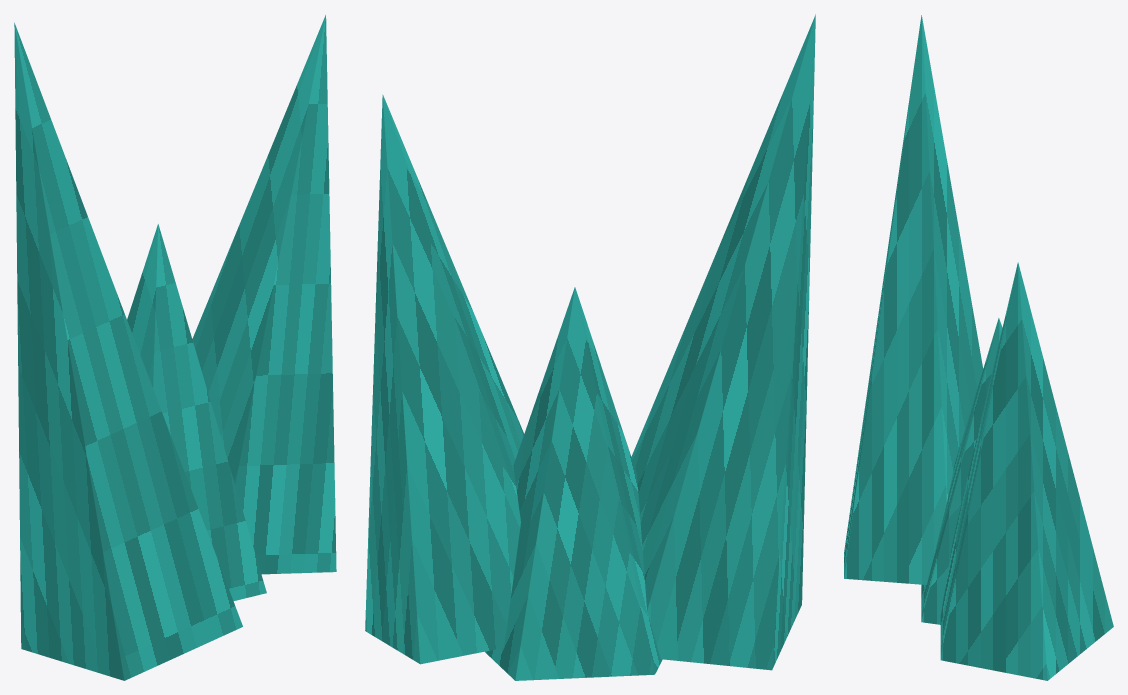
File: crystal_18.glb
3 views of the same model, side by side, from view 1: azimuth 30°, elevation 25°; view 2: azimuth 150°, elevation 25°; view 3: azimuth 270°, elevation 25° (orthographic). The views are drawn at different scales.
Parts seen in each view (by area): view 1: Jade, Jade.002, Jade.001; view 2: Jade, Jade.002, Jade.001; view 3: Jade, Jade.002, Jade.001.
Boxes of the visible parts, x1,y1,x2,y2 form: Jade: (14, 22, 242, 680); Jade.002: (192, 15, 336, 574); Jade.001: (127, 224, 266, 600); Jade: (631, 14, 815, 670); Jade.002: (365, 94, 524, 664); Jade.001: (485, 287, 662, 680); Jade: (844, 15, 983, 584); Jade.002: (940, 262, 1113, 680); Jade.001: (921, 318, 1002, 624).
Size of the model in its own units: 0.793 by 1.32 by 0.6194.
Materials: 1 (1 with a texture image).
